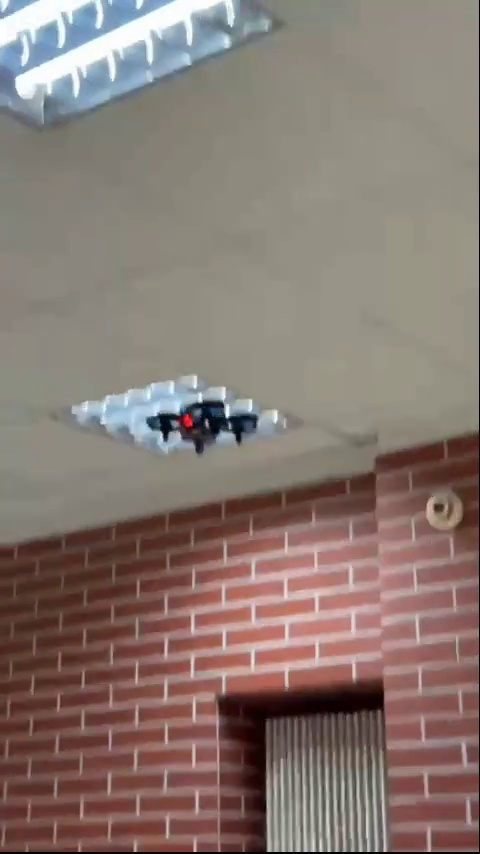drone: (149, 397, 254, 458)
